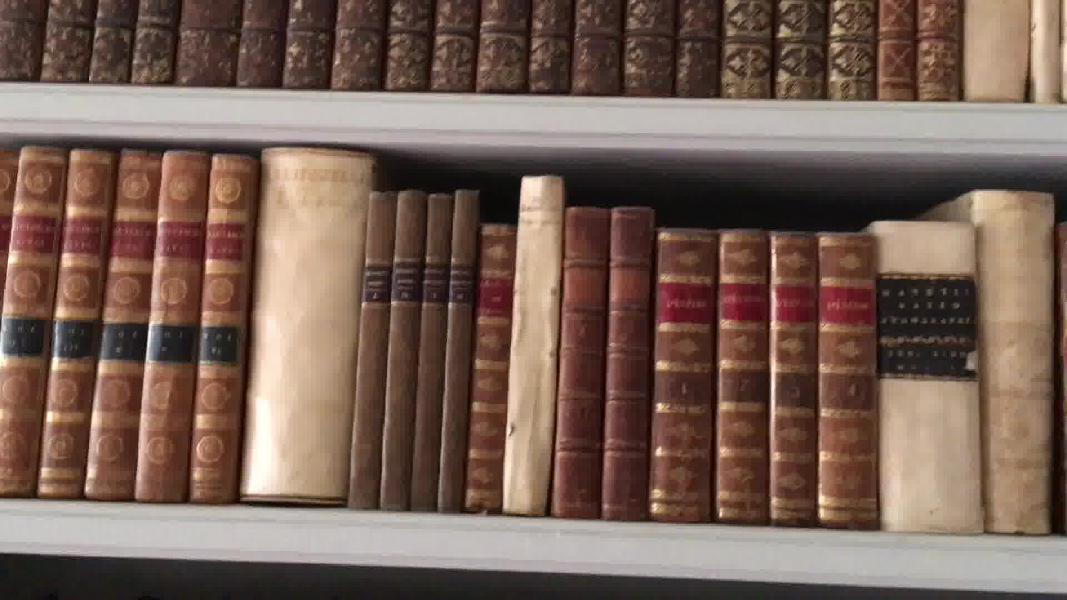Kk4-14: (237, 145, 373, 507)
Kk4-15_16: (345, 187, 424, 513)
Kk4-17_18: (410, 185, 479, 514)
Kk4-19: (465, 218, 515, 521)
Kk4-20: (502, 172, 564, 518)
Kk4-21_22: (549, 202, 655, 521)
Kk4-23_26: (650, 221, 881, 532)
Kk4-27: (873, 214, 986, 537)
Kk4-28: (965, 187, 1063, 540)
Kk4-8_13: (1, 145, 254, 508)
